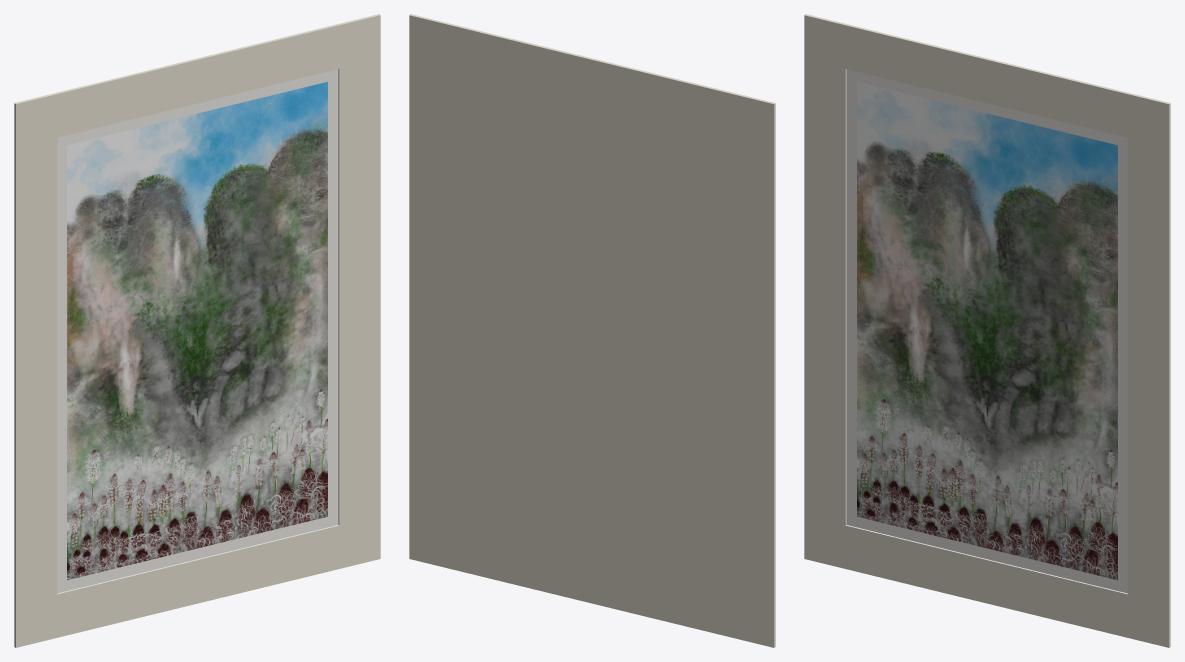
The model's file is os029_moyen_passe-partout.glb.
3 renders of one model, left to right at view 1: azimuth 30°, elevation 25°; view 2: azimuth 150°, elevation 25°; view 3: azimuth 330°, elevation 25°, orthographic.
Visible parts, largest first — view 1: os029_moyen_passe-partout; view 2: os029_moyen_passe-partout; view 3: os029_moyen_passe-partout.
Part boxes in pixels (<box>): os029_moyen_passe-partout: <box>14,14,380,647</box>; os029_moyen_passe-partout: <box>409,14,775,647</box>; os029_moyen_passe-partout: <box>804,14,1170,647</box>.
Bounding box in the file's own units: 0.7024 × 1 × 0.0055.
4 materials, 1 textured.
